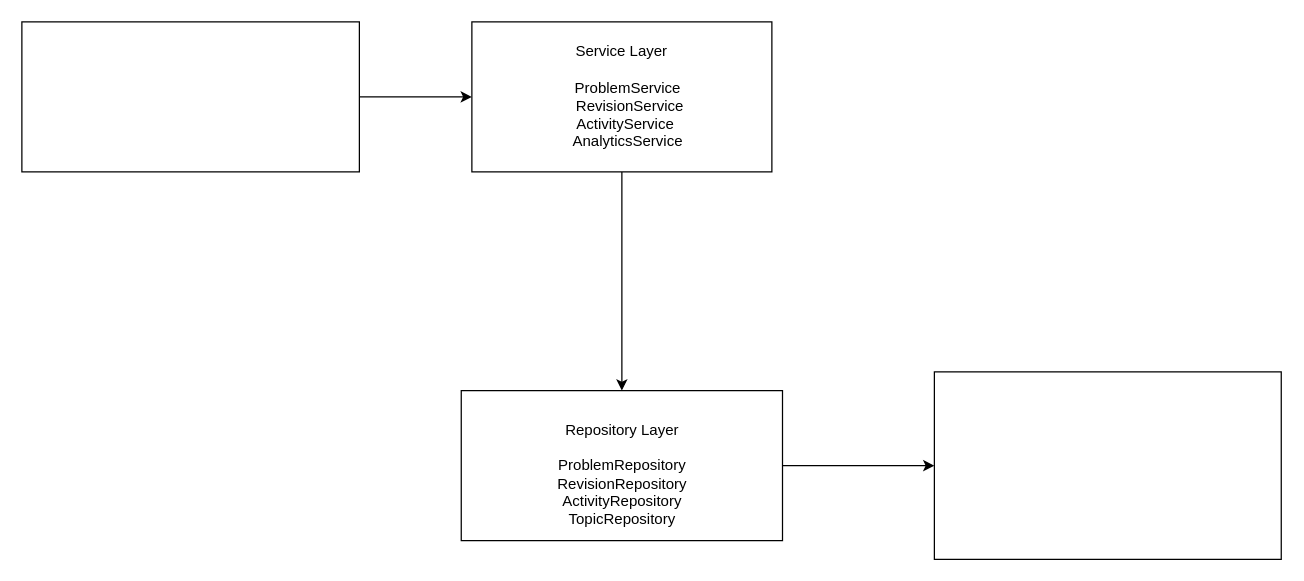
Image size: 1304x581. Some labels were removed from this diagram. The centre of each missing label's shape, as x and y in pixels:
"Database Layer PostgreSQL USER PROBLEMS REVISION ACTIVITY" goes at [1107,465].
"Presentation Layer Tkinter GUI Dashboard Problems Revision Analytics" goes at [190,96].
